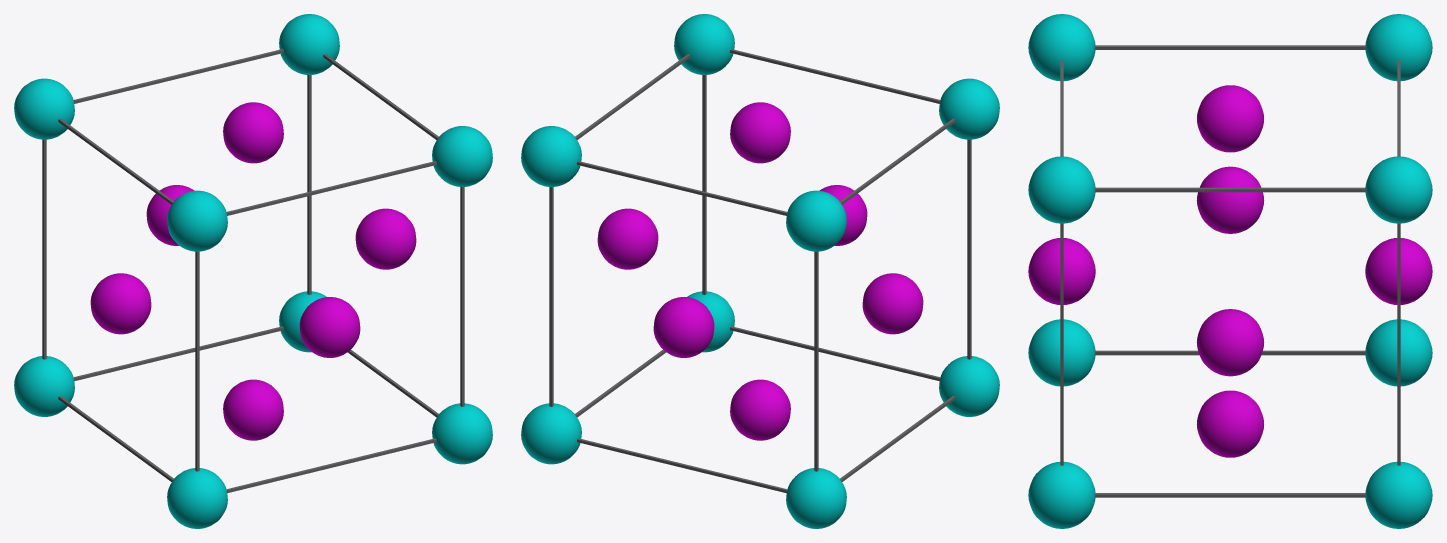
File: FCC.glb
3 renders of one model, left to right at view 1: azimuth 30°, elevation 25°; view 2: azimuth 150°, elevation 25°; view 3: azimuth 270°, elevation 25°, orthographic. The views are drawn at different scales.
Parts seen in each view (by area): view 1: atomo15; view 2: atomo15; view 3: atomo15.
Part boxes in pixels (x1,y1,x2,y2): atomo15: (14, 14, 492, 528); atomo15: (521, 14, 999, 528); atomo15: (1028, 14, 1432, 528).
Bounding box in the file's own units: 1.2 × 1.2 × 1.2.
